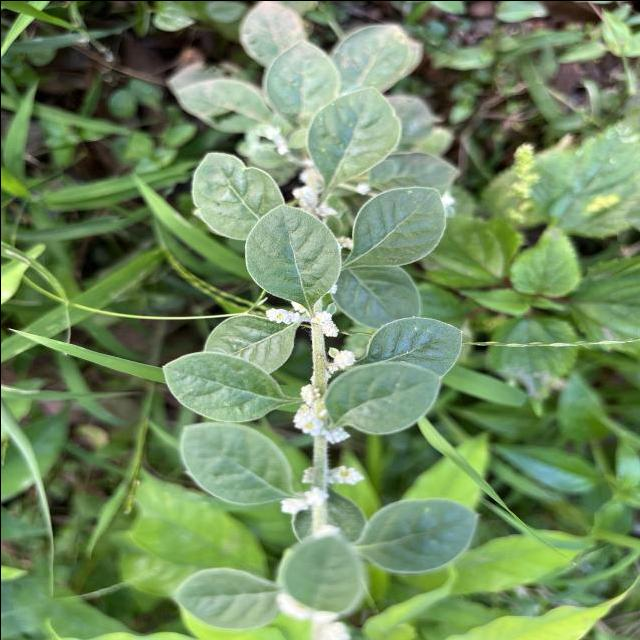Aerva lanata: (240, 200, 344, 312), (341, 184, 448, 269), (358, 313, 465, 379), (202, 310, 297, 376)
